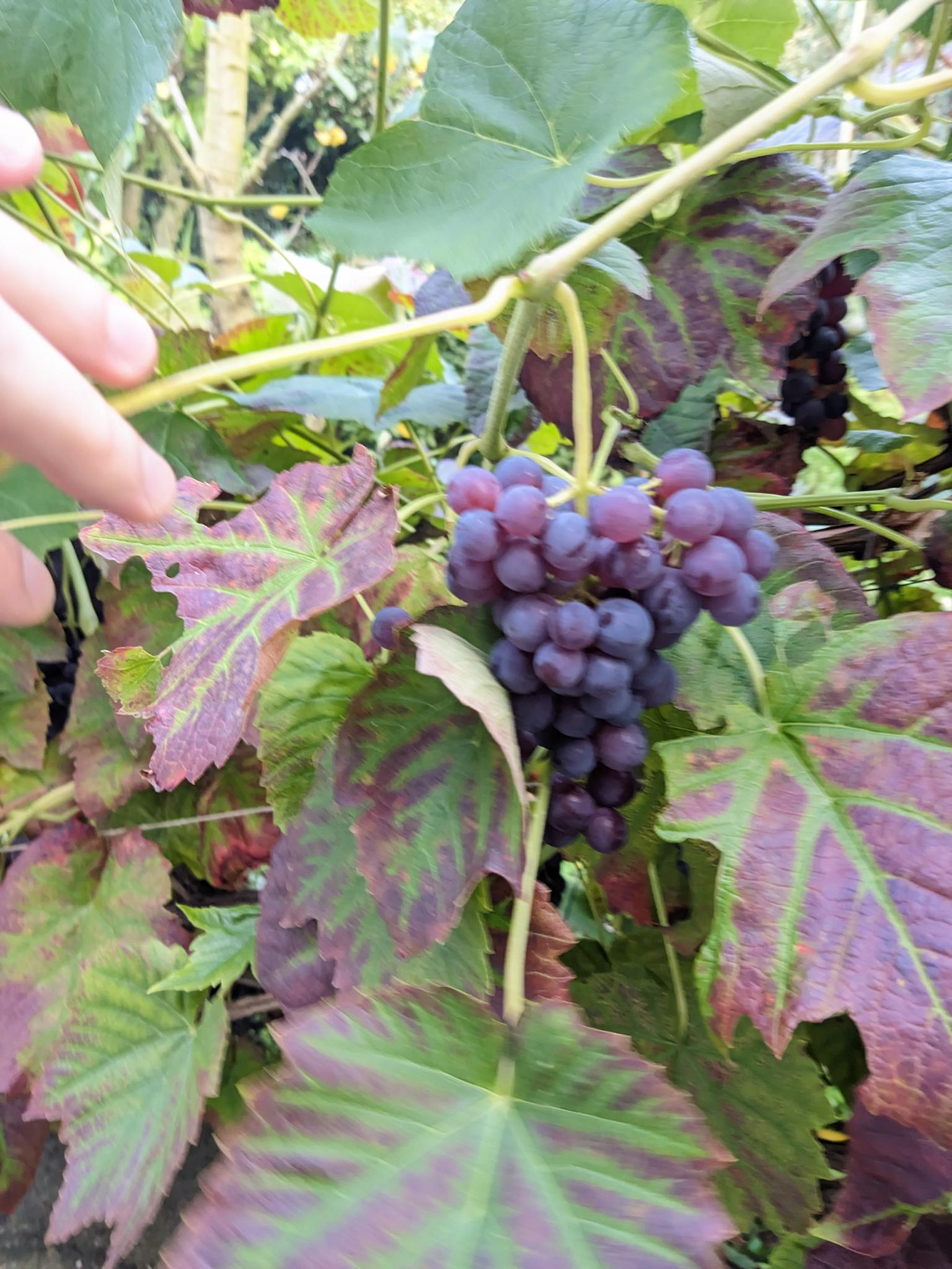Grape Ripe: (447, 451, 776, 852), (781, 258, 855, 447)
